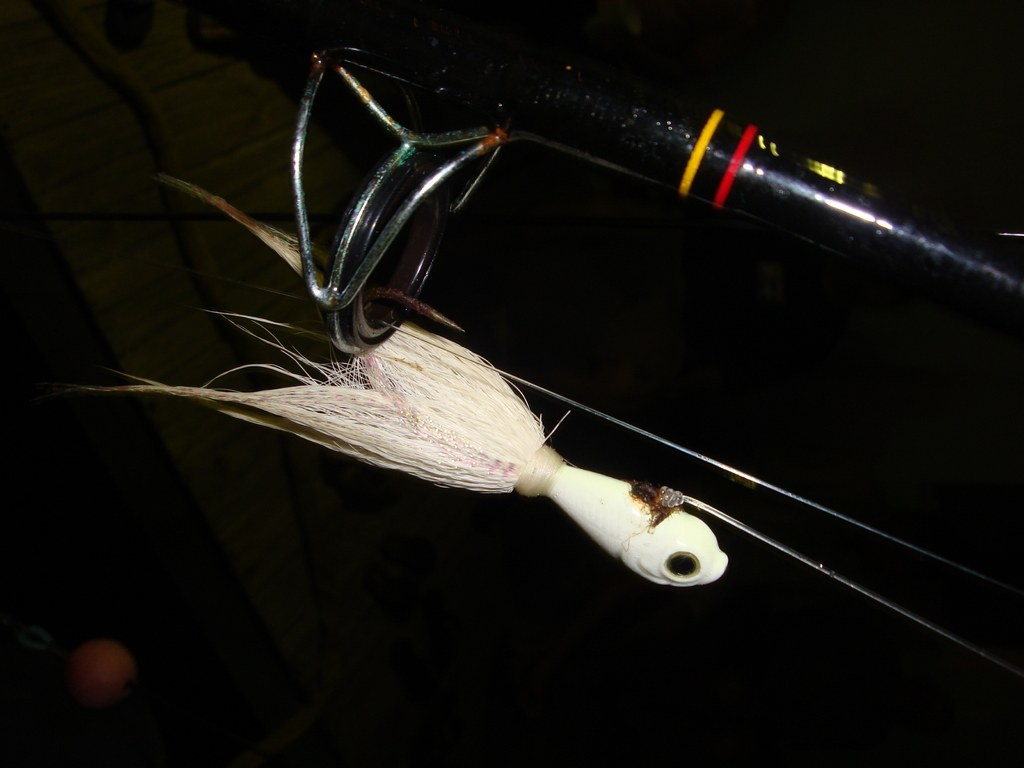insect: (74, 179, 1012, 678)
